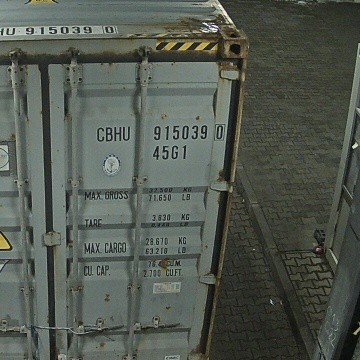serial_id: (97, 125, 223, 141)
